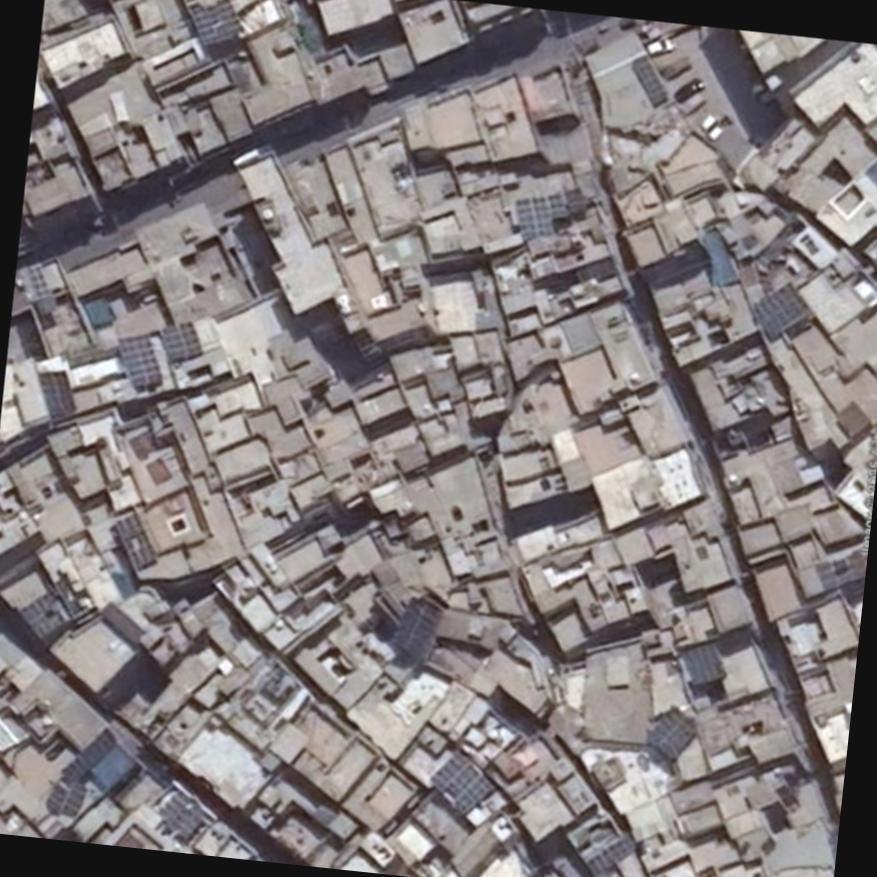Solarpanel: (433, 750, 494, 814), (755, 282, 809, 337), (188, 0, 245, 44), (513, 195, 564, 240), (117, 336, 161, 386), (645, 709, 692, 753), (161, 320, 201, 362)
